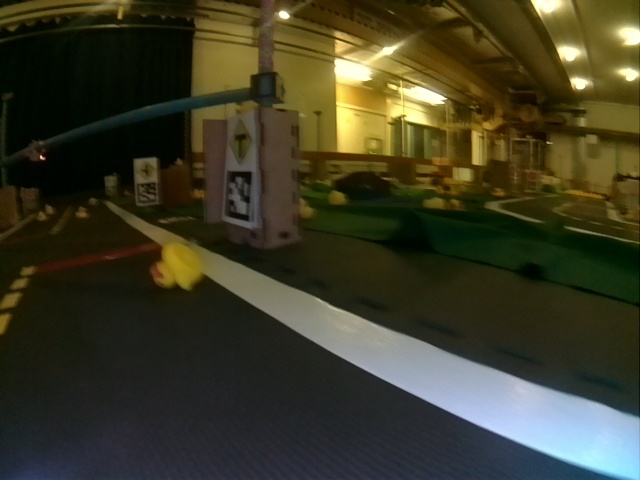Duckie: (150, 246, 202, 290), (298, 199, 313, 219), (330, 192, 347, 206)
Intersection sign: (229, 118, 254, 162), (136, 160, 155, 180)
QR code: (224, 170, 254, 222), (136, 184, 157, 203)
Traffic light: (29, 142, 46, 162)
